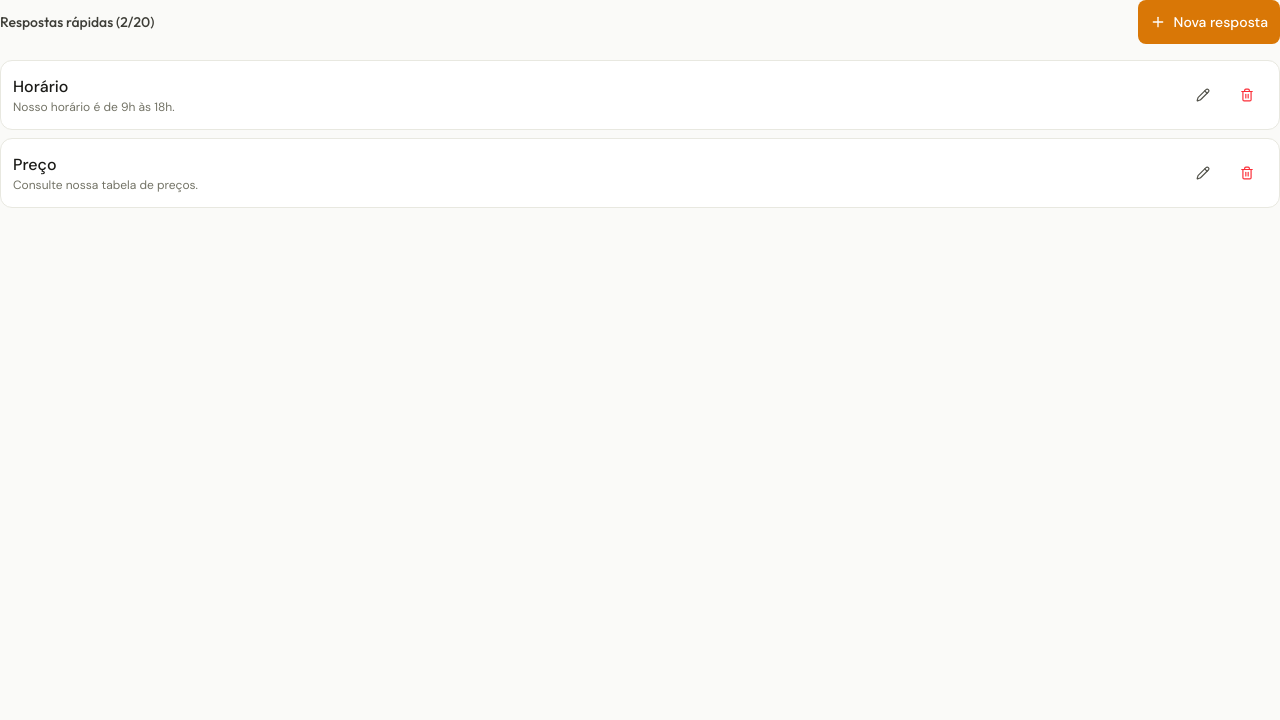
Scenario: QuickRepliesSection › opens create modal
The width and height of the screenshot is (1280, 720).
What coordinates should you click on to do the following:
click the button "Nova resposta"
I would click on:
 (1209, 22)
Its box is top-left (1138, 0), bottom-right (1279, 44).
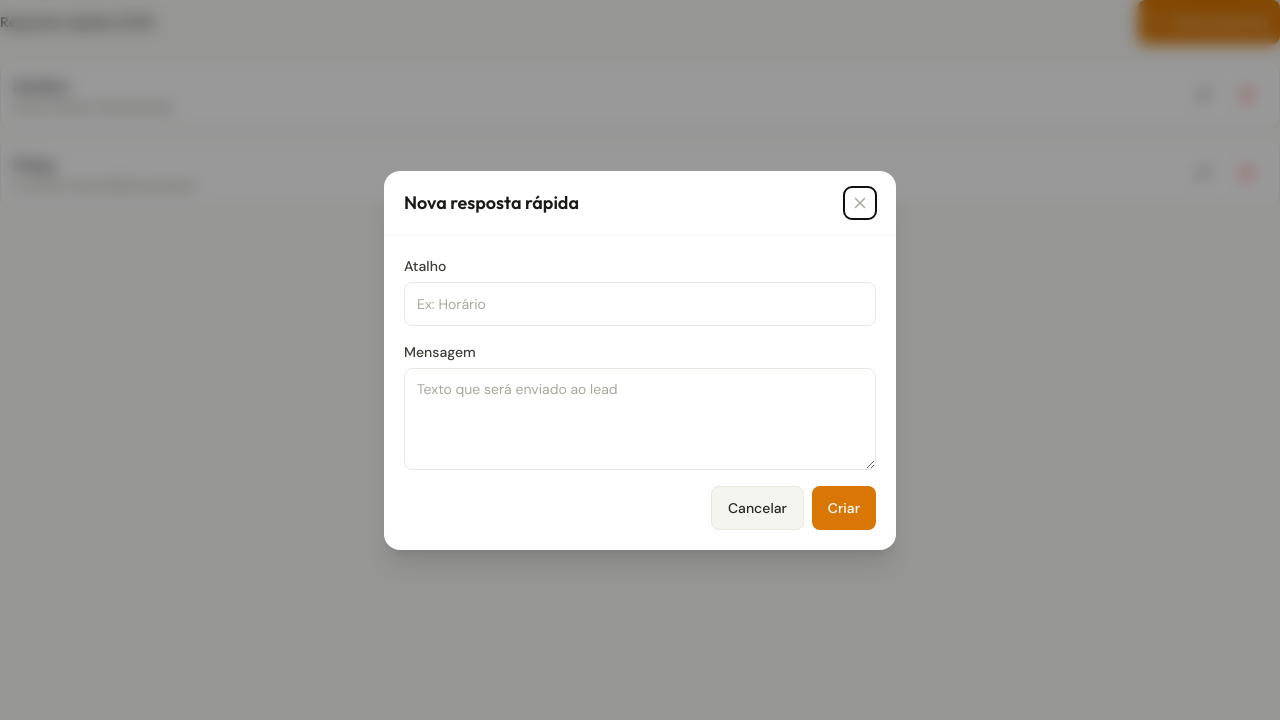
Expected: the heading "Nova resposta rápida" is shown, top-left (404, 188), bottom-right (579, 216)
